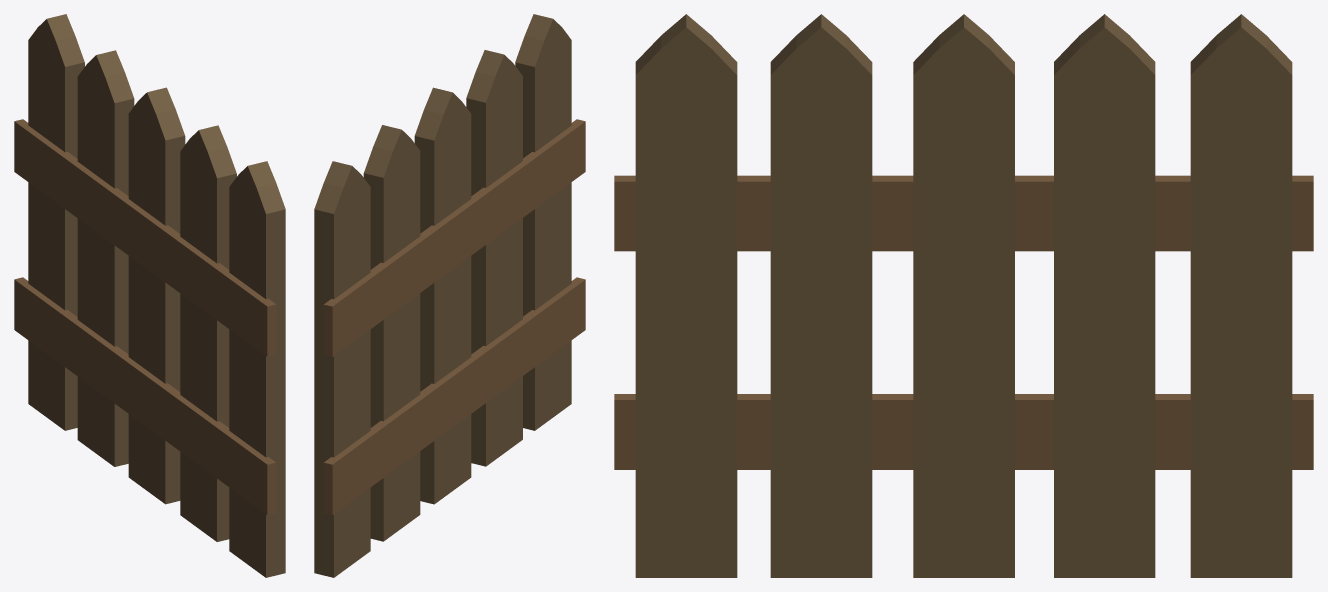
Rendered from Valla.fbx.
3 views of the same model, side by side, from view 1: azimuth 30°, elevation 25°; view 2: azimuth 150°, elevation 25°; view 3: azimuth 270°, elevation 25° (orthographic). The views are drawn at different scales.
Parts seen in each view (by area): view 1: Cube.003, Cube.005; view 2: Cube.003, Cube.005; view 3: Cube.003, Cube.005.
Part boxes in pixels (bbox=[...]): Cube.003: bbox=[28, 14, 285, 577]; Cube.005: bbox=[14, 119, 276, 515]; Cube.003: bbox=[314, 14, 571, 577]; Cube.005: bbox=[323, 119, 585, 515]; Cube.003: bbox=[635, 14, 1292, 577]; Cube.005: bbox=[614, 175, 1313, 469].
Size of the model in its own units: 8.16 by 120 by 138.
